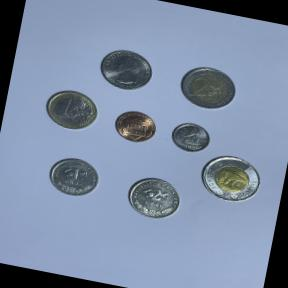coin: (195, 150, 266, 207), (174, 61, 244, 116), (122, 171, 186, 225), (95, 43, 159, 95), (40, 84, 102, 135), (109, 105, 161, 147), (166, 116, 214, 158)
